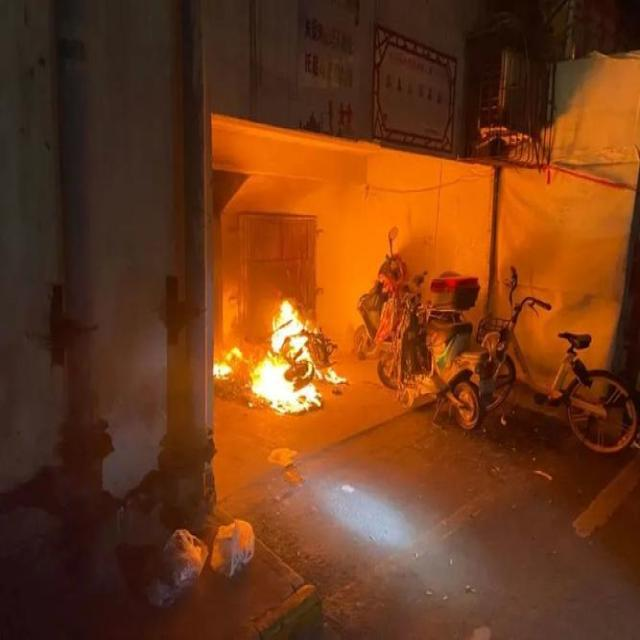Fire: (249, 300, 319, 414), (214, 348, 242, 377), (318, 365, 346, 387)
